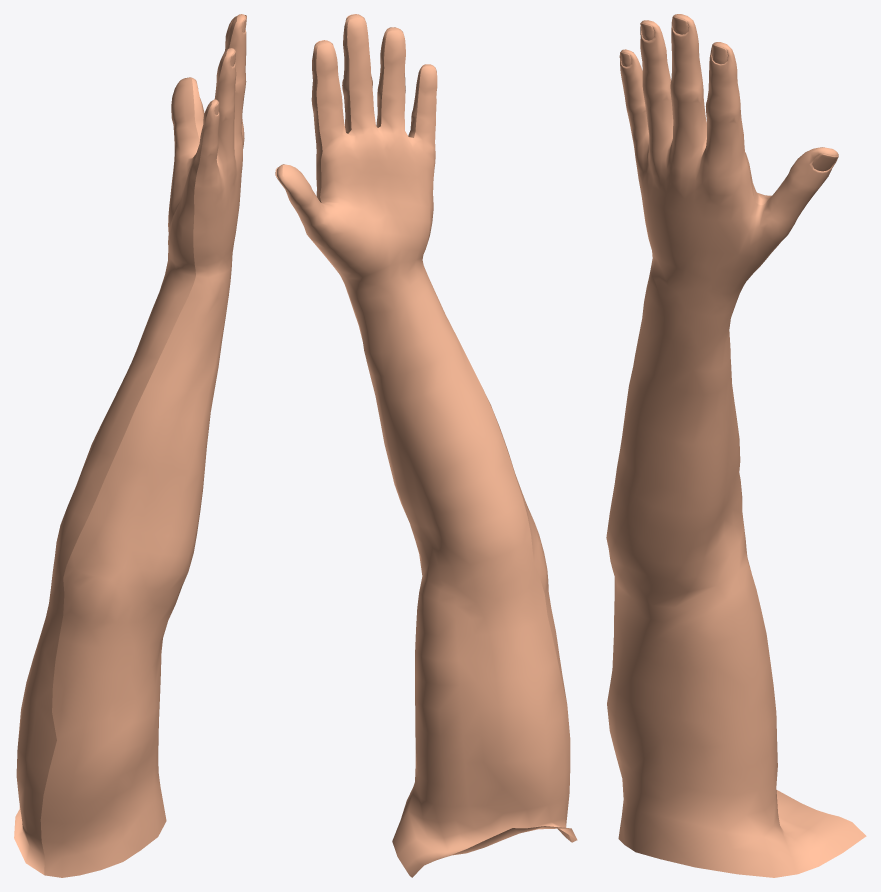
The model's file is Hand-model2.glb.
3 renders of one model, left to right at view 1: azimuth 30°, elevation 25°; view 2: azimuth 150°, elevation 25°; view 3: azimuth 270°, elevation 25°, orthographic. The views are drawn at different scales.
Parts seen in each view (by area): view 1: Arm.3; view 2: Arm.3; view 3: Arm.3.
Boxes of the visible parts, x1,y1,x2,y2 form: Arm.3: (14, 14, 246, 877); Arm.3: (275, 14, 577, 877); Arm.3: (606, 14, 866, 877).
Size of the model in its own units: 0.289 by 0.8986 by 0.2309.
1 material, 1 textured.
